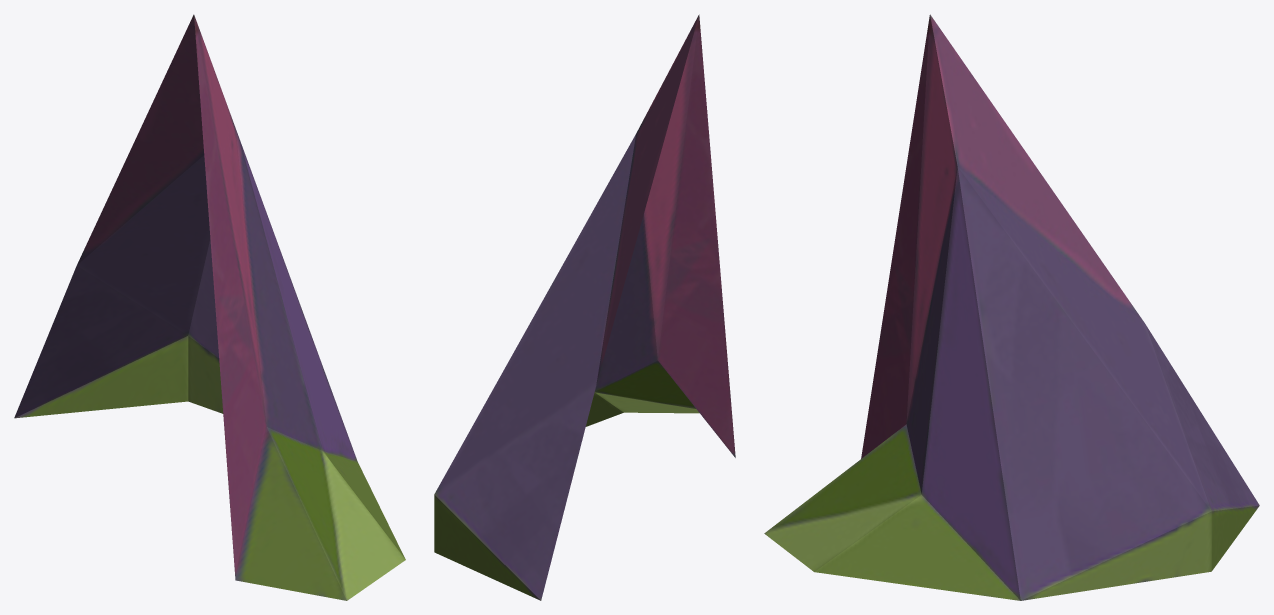
The model's file is wall_crys_deco2.fbx.
The picture shows the model from 3 angles, left to right: view 1: azimuth 30°, elevation 25°; view 2: azimuth 150°, elevation 25°; view 3: azimuth 270°, elevation 25°; orthographic projection. The views are drawn at different scales.
Visible parts, largest first — view 1: wall_crys_deco2; view 2: wall_crys_deco2; view 3: wall_crys_deco2.
Part boxes in pixels (bbox=[...]): wall_crys_deco2: bbox=[14, 14, 405, 600]; wall_crys_deco2: bbox=[434, 14, 735, 600]; wall_crys_deco2: bbox=[764, 14, 1259, 600].
Bounding box in the file's own units: 0.00802 × 0.0193 × 0.0176.
